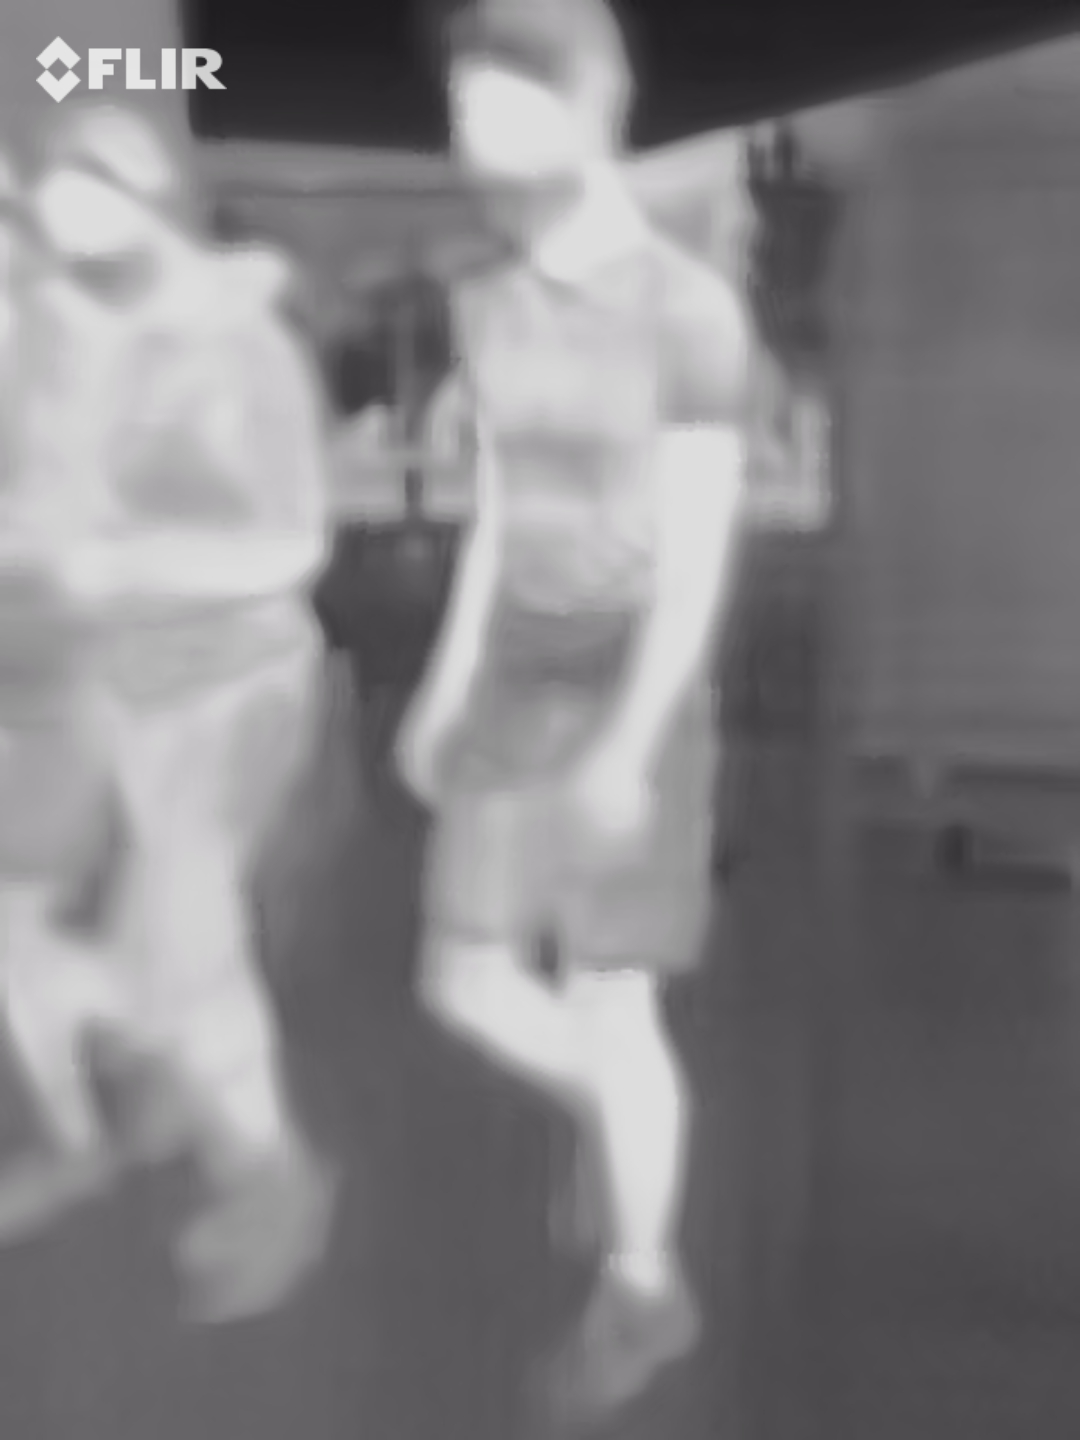head: (432, 1, 644, 260), (33, 109, 179, 313)
